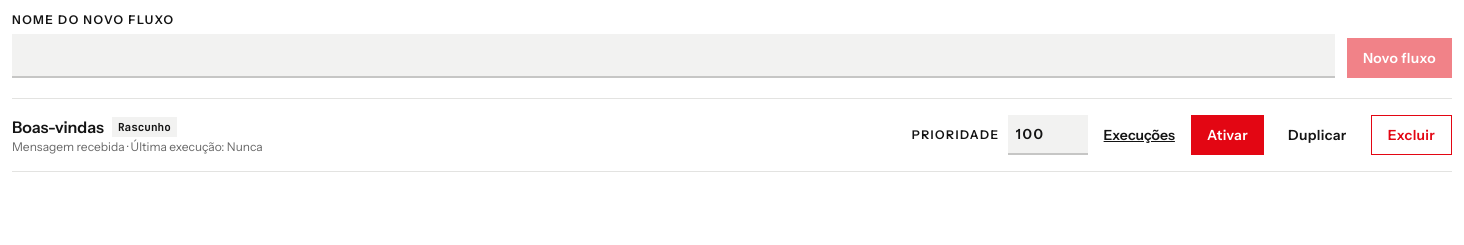
Test: FlowList › shows the INVALID_FLOW message when activation fails
This screenshot has width=1464, height=245.
Step 1. Click the button "Ativar" → (1228, 135), box 1191,115 -> 1264,155
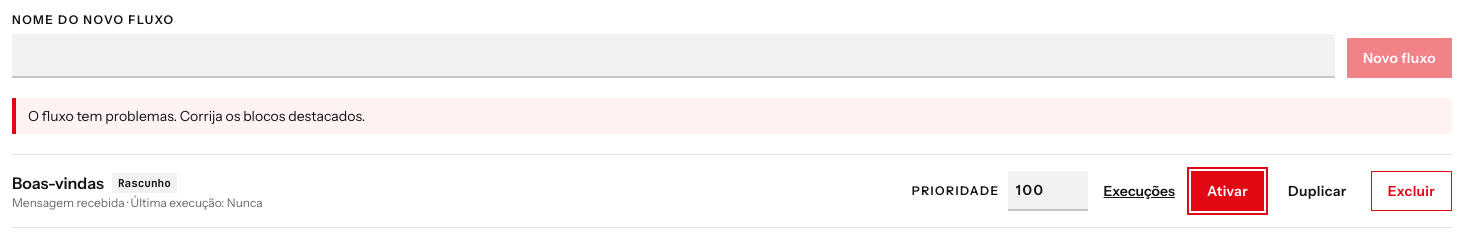
Check: the message reads "O fluxo tem problemas. Corrija os blocos destacados.", box 28,107 -> 365,125
